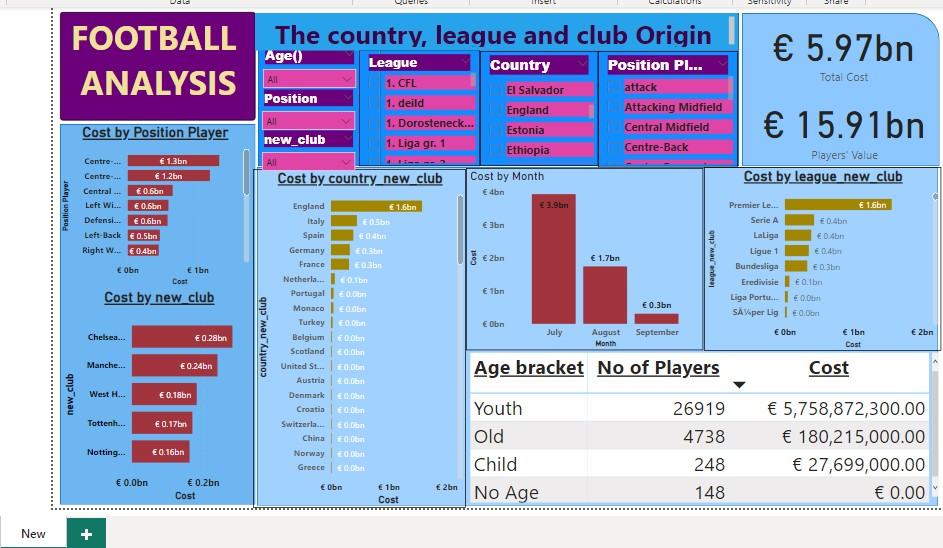

The dashboard page shown, as its layout file describes it:
{"tool":"powerbi","page":{"name":"New","canvas":[1280,720],"ordinal":1},"visuals":[{"type":"shape","box":[293.8,230.4,979.2,486.7],"z":0},{"type":"shape","box":[10.1,168.5,280.8,547.2],"z":1000},{"type":"shape","box":[469.4,8.6,515.5,220.3],"z":2000},{"type":"shape","box":[990.7,8.6,283.7,220.3],"z":3000},{"type":"textbox","box":[10.1,7.2,280.8,155.5],"z":4000},{"type":"shape","box":[294.6,8.6,175.3,219.9],"z":5000},{"type":"slicer","fields":{"Values":["SummerTransfersFootball22.Age bracket"]},"box":[291.7,50.3,153.8,66.1],"z":6000},{"type":"slicer","fields":{"Values":["SummerTransfersFootball22.Position"]},"box":[290.3,113.5,153.8,69],"z":7000},{"type":"card","fields":{"Values":["SummerTransfersFootball22.Player Value"]},"box":[999.4,118.1,277.9,110.9],"z":8000},{"type":"slicer","fields":{"Values":["SummerTransfersFootball22.league_new_club"]},"box":[439.8,61.8,173.9,166.7],"z":9000},{"type":"slicer","fields":{"Values":["SummerTransfersFootball22.country_new_club"]},"box":[613.7,63.2,169.6,165.3],"z":10000},{"type":"card","fields":{"Values":["SummerTransfersFootball22.Cost income"]},"box":[997.1,11.5,279.4,102.2],"z":11000},{"type":"barChart","fields":{"Y":["SummerTransfersFootball22.Cost income"],"Category":["SummerTransfersFootball22.new_club"]},"box":[10.1,405.3,286,310.4],"z":12000},{"type":"columnChart","fields":{"Category":["SummerTransfersFootball22.date_of_transfer.Variation.Date Hierarchy.Month"],"Y":["SummerTransfersFootball22.Cost income"]},"box":[593.5,231.4,340.6,261.6],"z":13000},{"type":"barChart","fields":{"Y":["SummerTransfersFootball22.Cost income"],"Category":["SummerTransfersFootball22.country_new_club"]},"box":[287.4,232.8,306.1,487.2],"z":14000},{"type":"barChart","fields":{"Y":["SummerTransfersFootball22.Cost income"],"Category":["SummerTransfersFootball22.Position Player"]},"box":[7.2,168.1,280.2,237.1],"z":15000},{"type":"tableEx","fields":{"Values":["SummerTransfersFootball22.Age bracket","SummerTransfersFootball22.Name","SummerTransfersFootball22.Cost income"]},"box":[593.5,491.5,684.1,225.6],"z":17000},{"type":"textbox","box":[290.6,8.4,693.8,53.8],"z":18000},{"type":"slicer","fields":{"Values":["SummerTransfersFootball22.Position Player"]},"box":[783.2,63.2,201.2,166.7],"z":19000},{"type":"slicer","fields":{"Values":["SummerTransfersFootball22.new_club"]},"box":[290.3,172.5,153.8,69],"z":20000},{"type":"barChart","fields":{"Y":["SummerTransfersFootball22.Cost income"],"Category":["SummerTransfersFootball22.league_new_club"]},"box":[935.6,230.1,341,263.7],"z":20001}]}

Visuals, with their boxes on the page's 1280x720 design canvas (x1, y1, x2, y2). These are canvas units, not pixel positions in the 943x548 screenshot, which may show the page scaled, cropped or inside an application window:
shape: 294, 230, 1273, 717
shape: 10, 168, 291, 716
shape: 469, 9, 985, 229
shape: 991, 9, 1274, 229
textbox: 10, 7, 291, 163
shape: 295, 9, 470, 228
slicer - SummerTransfersFootball22.Age bracket: 292, 50, 446, 116
slicer - SummerTransfersFootball22.Position: 290, 114, 444, 182
card - SummerTransfersFootball22.Player Value: 999, 118, 1277, 229
slicer - SummerTransfersFootball22.league_new_club: 440, 62, 614, 228
slicer - SummerTransfersFootball22.country_new_club: 614, 63, 783, 228
card - SummerTransfersFootball22.Cost income: 997, 12, 1276, 114
barChart - SummerTransfersFootball22.Cost income x SummerTransfersFootball22.new_club: 10, 405, 296, 716
columnChart - SummerTransfersFootball22.date_of_transfer.Variation.Date Hierarchy.Month x SummerTransfersFootball22.Cost income: 594, 231, 934, 493
barChart - SummerTransfersFootball22.Cost income x SummerTransfersFootball22.country_new_club: 287, 233, 594, 720
barChart - SummerTransfersFootball22.Cost income x SummerTransfersFootball22.Position Player: 7, 168, 287, 405
tableEx - SummerTransfersFootball22.Age bracket x SummerTransfersFootball22.Name: 594, 492, 1278, 717
textbox: 291, 8, 984, 62
slicer - SummerTransfersFootball22.Position Player: 783, 63, 984, 230
slicer - SummerTransfersFootball22.new_club: 290, 172, 444, 242
barChart - SummerTransfersFootball22.Cost income x SummerTransfersFootball22.league_new_club: 936, 230, 1277, 494
